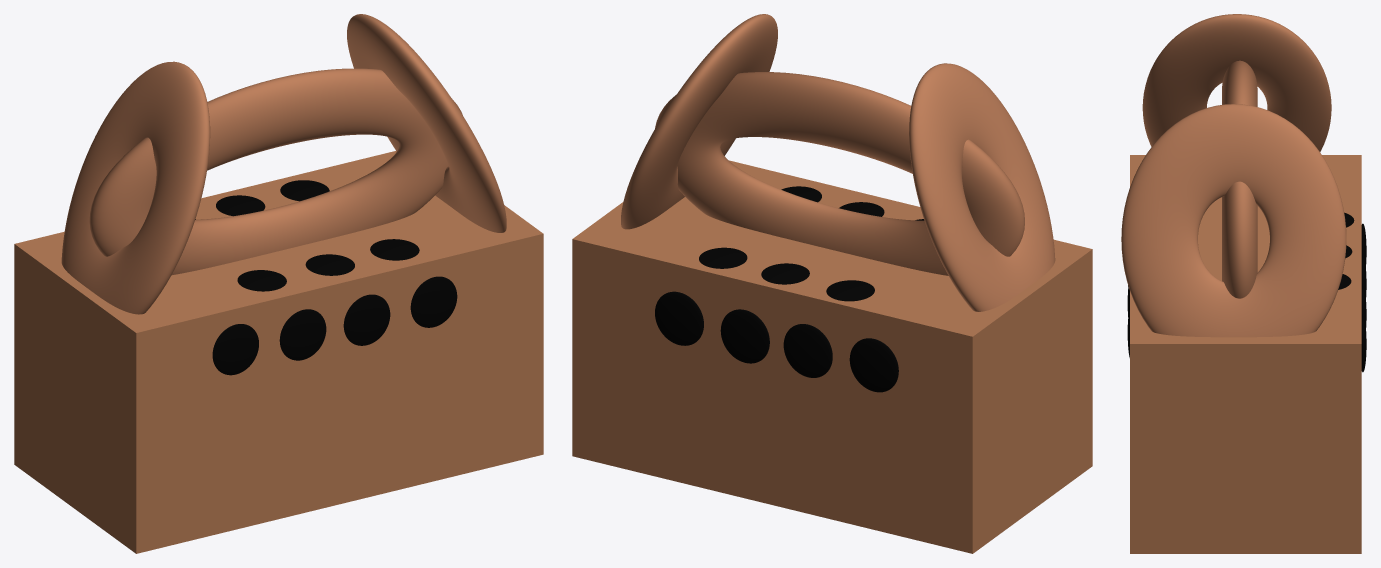
Rendered from pet rock box.fbx.
3 views of the same model, side by side, from view 1: azimuth 30°, elevation 25°; view 2: azimuth 150°, elevation 25°; view 3: azimuth 270°, elevation 25° (orthographic). The views are drawn at different scales.
Visible parts, largest first — view 1: root (×13); view 2: root (×11); view 3: root (×4).
Boxes of the visible parts, <box> form: root (×13): <box>14,14,543,553</box>; root (×11): <box>572,14,1092,553</box>; root (×4): <box>1121,14,1361,553</box>.
Size of the model in its own units: 0.2262 by 0.2231 by 0.124.
4 materials, 2 textured.
